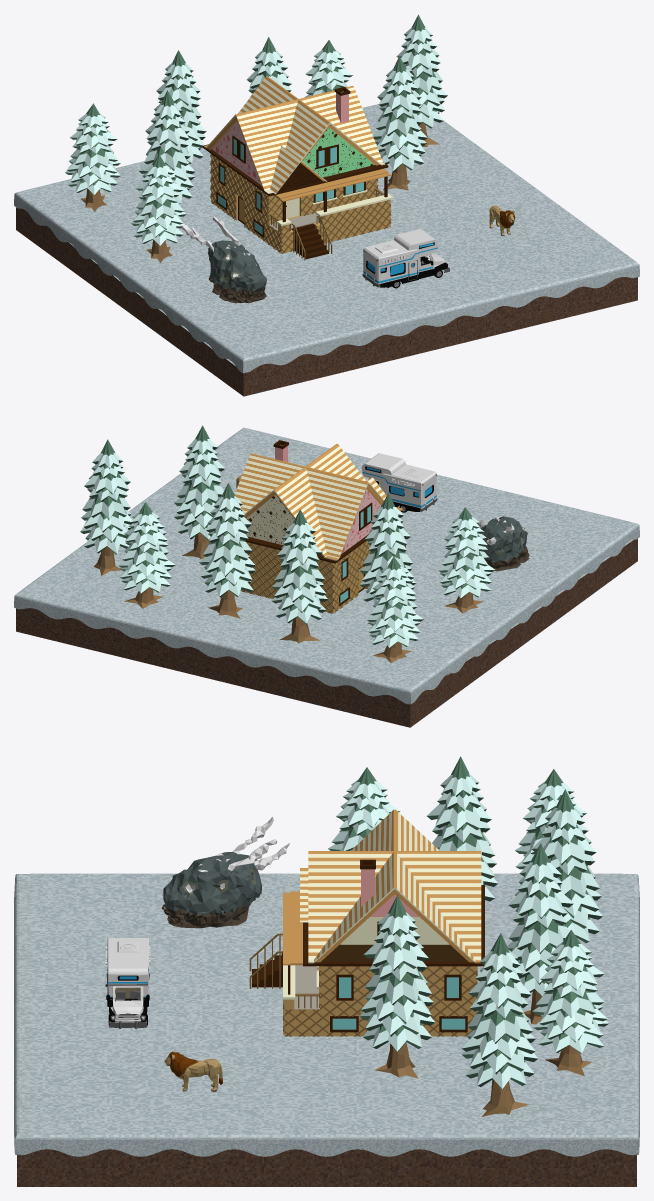
The picture shows the model from 3 angles, top to bottom: view 1: azimuth 30°, elevation 25°; view 2: azimuth 150°, elevation 25°; view 3: azimuth 270°, elevation 25°; orthographic projection. The views are drawn at different scales.
Parts seen in each view (by area): view 1: Cube.003, Cube.1102, VEHICLES_CAMPER, OBJRANDOM_METEORITE; view 2: Cube.003, Cube.1102, VEHICLES_CAMPER, OBJRANDOM_METEORITE; view 3: Cube.003, Cube.1102, OBJRANDOM_METEORITE, VEHICLES_CAMPER, ANIMAL_LEON.
Boxes of the visible parts, x1,y1,x2,y2 form: Cube.003: (14,14,639,396); Cube.1102: (202,76,393,260); VEHICLES_CAMPER: (362,229,449,288); OBJRANDOM_METEORITE: (181,216,266,303); Cube.003: (14,425,639,727); Cube.1102: (234,440,405,613); VEHICLES_CAMPER: (362,453,437,512); OBJRANDOM_METEORITE: (477,516,529,571); Cube.003: (14,756,639,1186); Cube.1102: (249,809,484,1036); OBJRANDOM_METEORITE: (161,817,289,928); VEHICLES_CAMPER: (105,938,150,1028); ANIMAL_LEON: (164,1051,222,1091).
Bounding box in the file's own units: 4040 × 1793 × 4040.
Materials: 31 (4 with a texture image).
